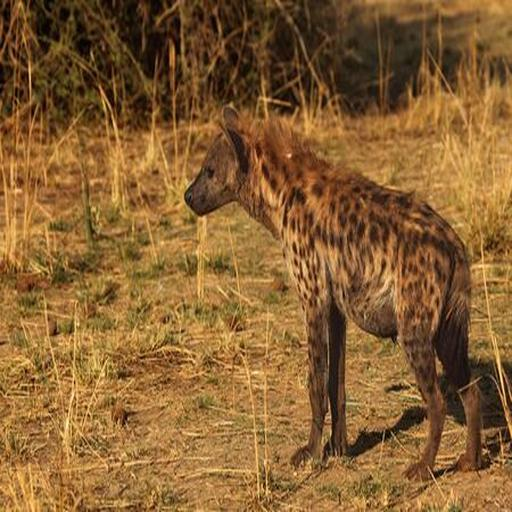Hyena: (188, 108, 500, 476)
